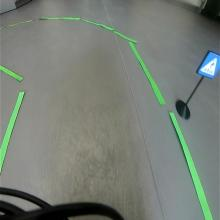crosswalk: (195, 50, 220, 79)
